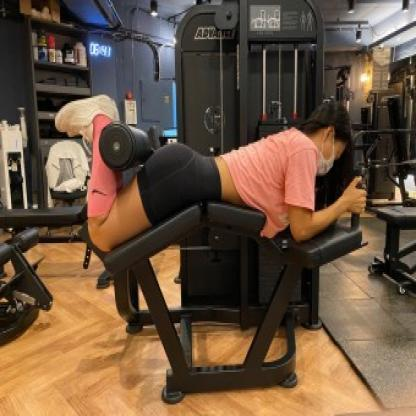reg curl machine: (45, 0, 372, 405)
